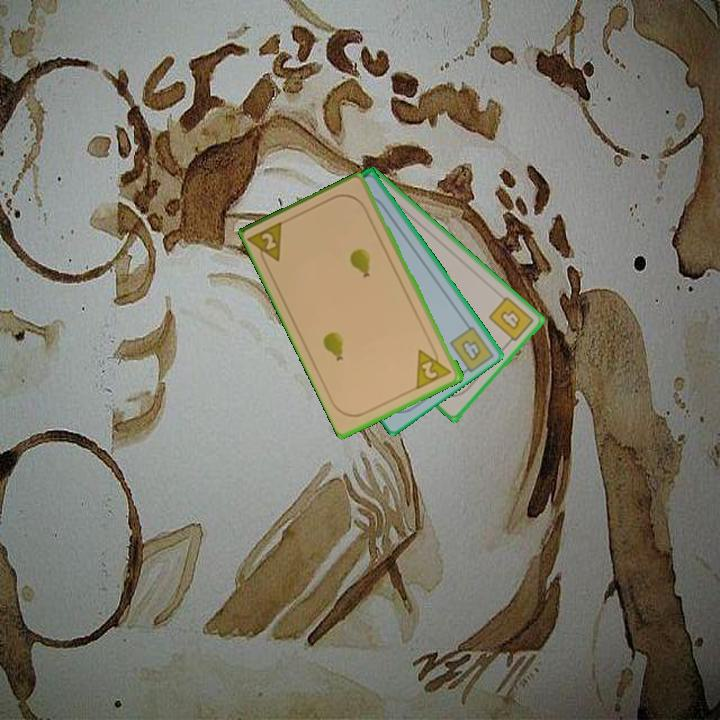2p: (246, 217, 288, 271), (413, 341, 456, 392)
4b: (485, 293, 537, 349), (458, 336, 485, 364)
